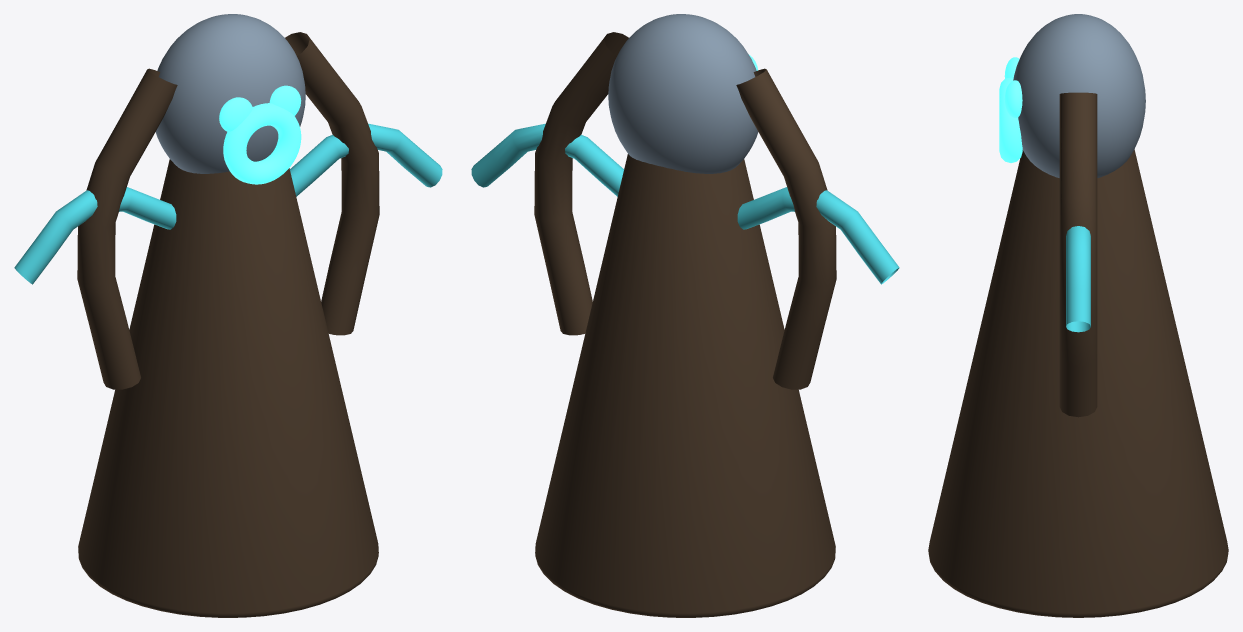
File: wraith_v5.glb
3 renders of one model, left to right at view 1: azimuth 30°, elevation 25°; view 2: azimuth 150°, elevation 25°; view 3: azimuth 270°, elevation 25°, orthographic.
Visible parts, largest first — view 1: BANSHEE_DRESS_SECONDARY, BANSHEE_HEAD_PRIMARY, BANSHEE_HAIR_SECONDARY, BANSHEE_HAIR_SECONDARY.001, BANSHEE_ARM_ACCENT, BANSHEE_MOUTH_EMISSIVE, BANSHEE_ARM_ACCENT.001, EYE_EMISSIVE, EYE_EMISSIVE.001; view 2: BANSHEE_DRESS_SECONDARY, BANSHEE_HEAD_PRIMARY, BANSHEE_HAIR_SECONDARY, BANSHEE_HAIR_SECONDARY.001, BANSHEE_ARM_ACCENT, BANSHEE_ARM_ACCENT.001; view 3: BANSHEE_DRESS_SECONDARY, BANSHEE_HEAD_PRIMARY, BANSHEE_HAIR_SECONDARY.001, BANSHEE_ARM_ACCENT.001, BANSHEE_MOUTH_EMISSIVE, EYE_EMISSIVE.001.
Part boxes in pixels (left/top/right/bottom): BANSHEE_DRESS_SECONDARY: left=78, top=159, right=378, bottom=617; BANSHEE_HEAD_PRIMARY: left=155, top=14, right=305, bottom=173; BANSHEE_HAIR_SECONDARY: left=77, top=68, right=177, bottom=389; BANSHEE_HAIR_SECONDARY.001: left=285, top=32, right=379, bottom=335; BANSHEE_ARM_ACCENT: left=14, top=187, right=176, bottom=284; BANSHEE_MOUTH_EMISSIVE: left=223, top=103, right=301, bottom=184; BANSHEE_ARM_ACCENT.001: left=290, top=123, right=442, bottom=196; EYE_EMISSIVE: left=219, top=97, right=252, bottom=132; EYE_EMISSIVE.001: left=269, top=85, right=301, bottom=115; BANSHEE_DRESS_SECONDARY: left=535, top=154, right=835, bottom=617; BANSHEE_HEAD_PRIMARY: left=608, top=14, right=758, bottom=173; BANSHEE_HAIR_SECONDARY: left=736, top=68, right=836, bottom=389; BANSHEE_HAIR_SECONDARY.001: left=534, top=32, right=628, bottom=335; BANSHEE_ARM_ACCENT: left=737, top=187, right=899, bottom=284; BANSHEE_ARM_ACCENT.001: left=471, top=123, right=623, bottom=196; BANSHEE_DRESS_SECONDARY: left=928, top=149, right=1228, bottom=617; BANSHEE_HEAD_PRIMARY: left=1013, top=14, right=1145, bottom=177; BANSHEE_HAIR_SECONDARY.001: left=1059, top=92, right=1097, bottom=417; BANSHEE_ARM_ACCENT.001: left=1066, top=226, right=1090, bottom=332; BANSHEE_MOUTH_EMISSIVE: left=999, top=77, right=1022, bottom=162; EYE_EMISSIVE.001: left=1004, top=80, right=1022, bottom=117.
Size of the model in its own units: 2.32 by 2.81 by 1.43.
